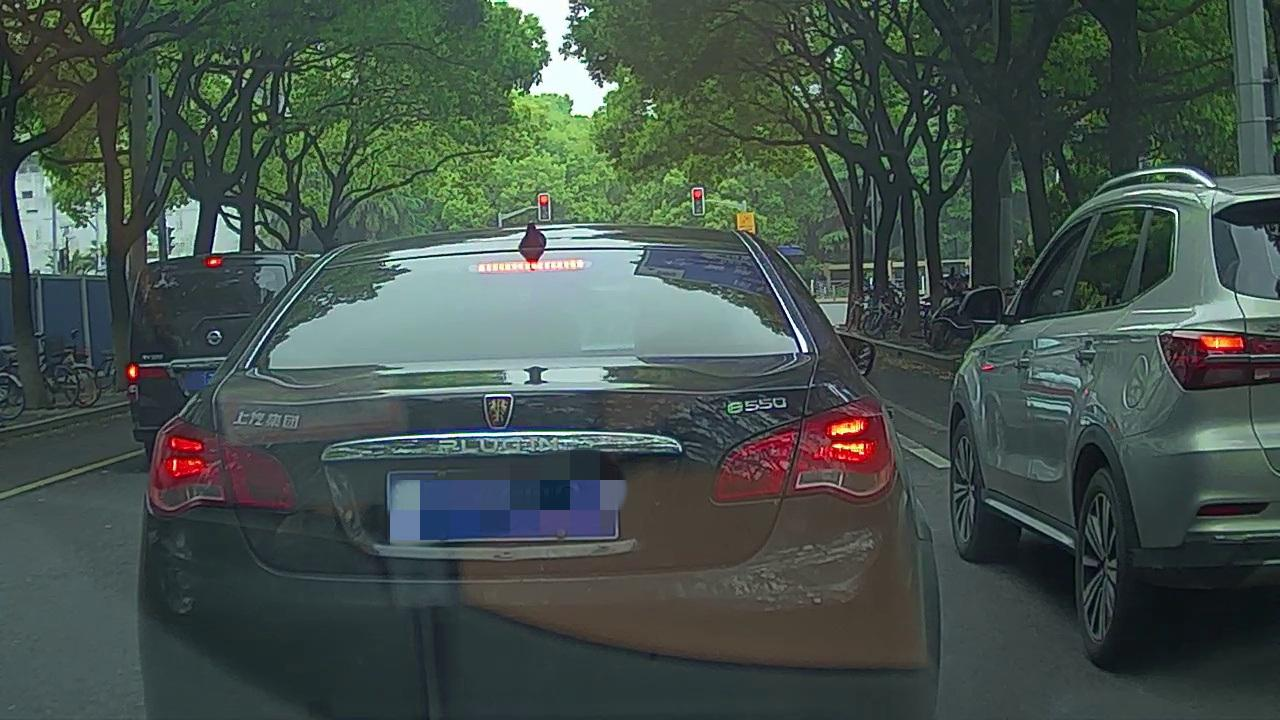traffic_light: (692, 189, 703, 214), (540, 195, 549, 219)
